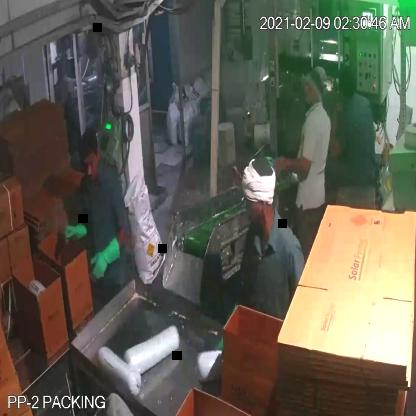glove: (89, 231, 123, 285), (59, 214, 91, 251)
no_glove: (262, 140, 317, 190)
